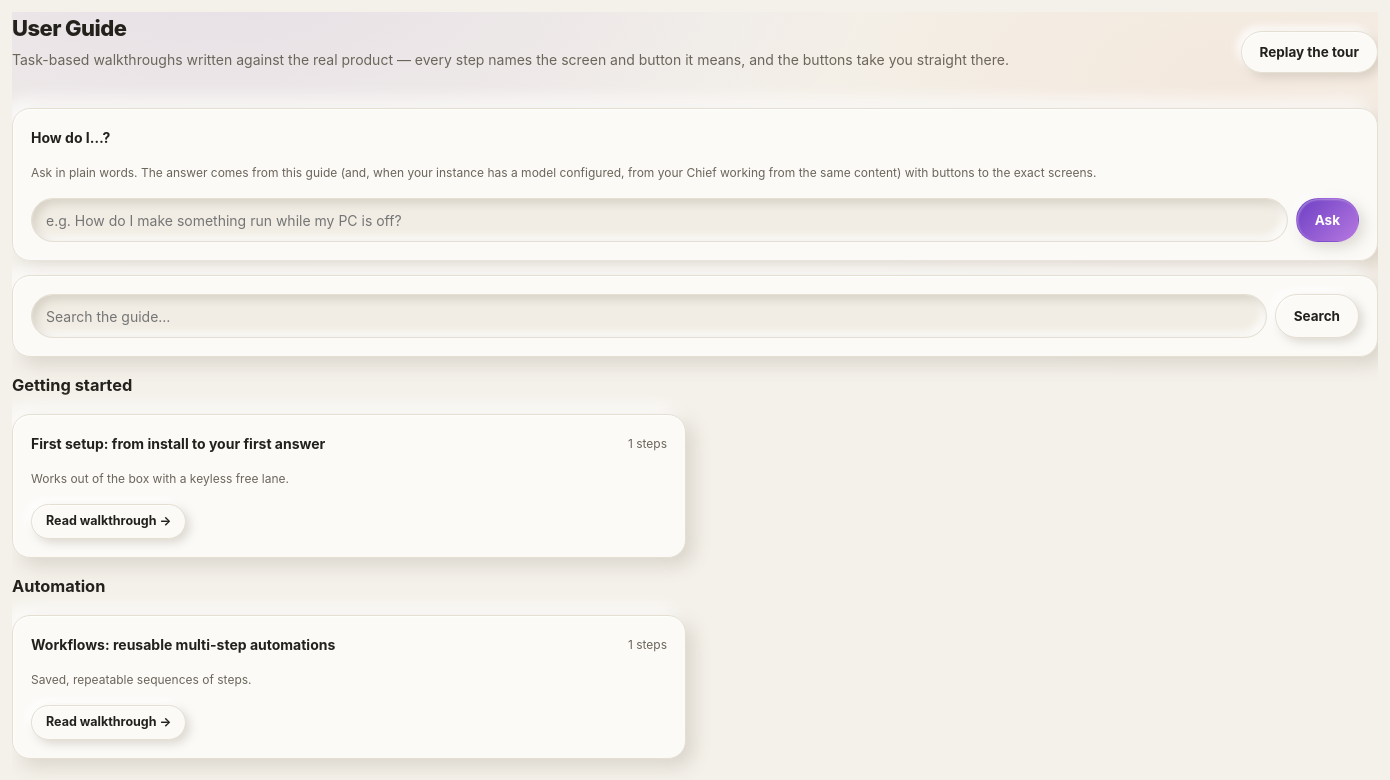
it: guide page › opens the article reader with steps and deep-link buttons
Click the button "Read walkthrough →" below "Saved, repeatable sequences of steps." at coordinates (109, 723), box [31,705,186,740]
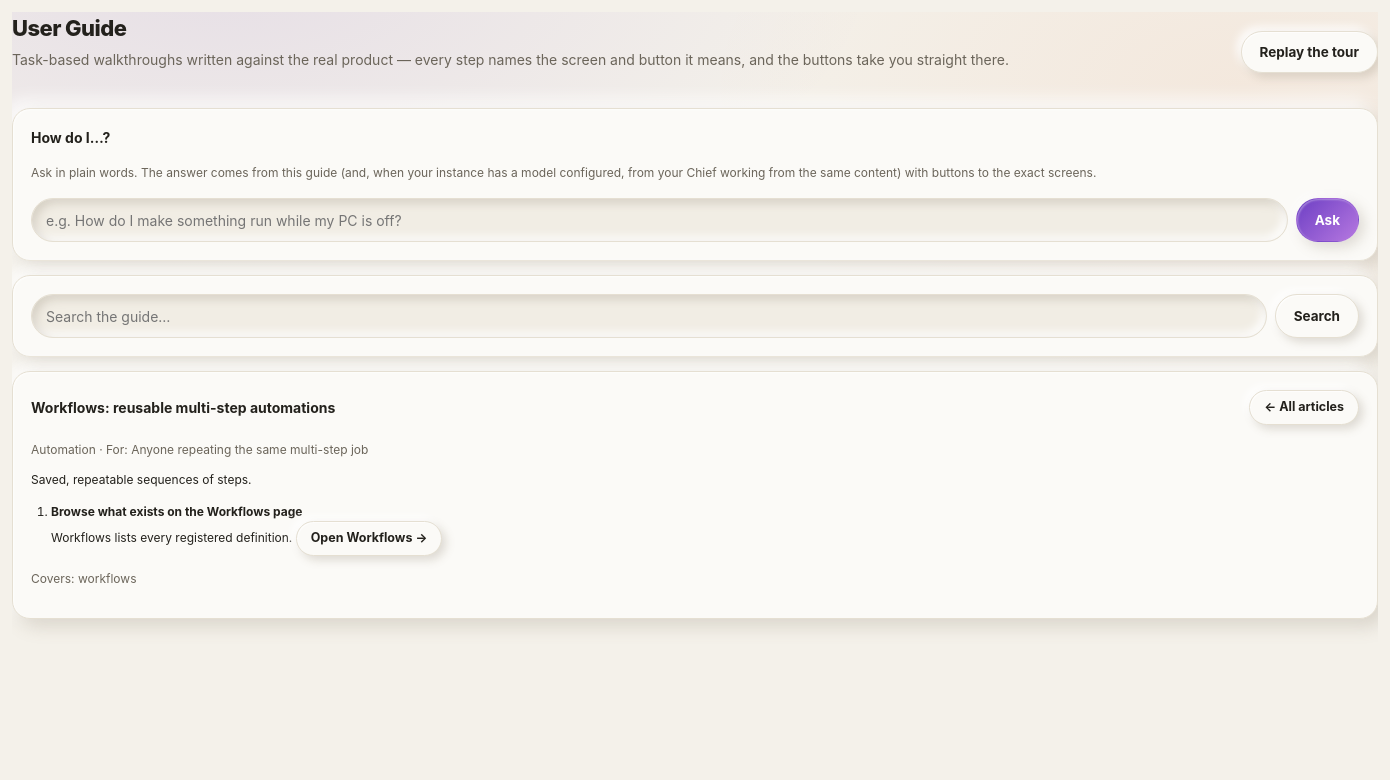
Check: the element with test id "guide-article-reader" is shown, box [12,371,1378,618]
Check: the text "Browse what exists on the Workflows page" is shown, box [51,504,302,519]
